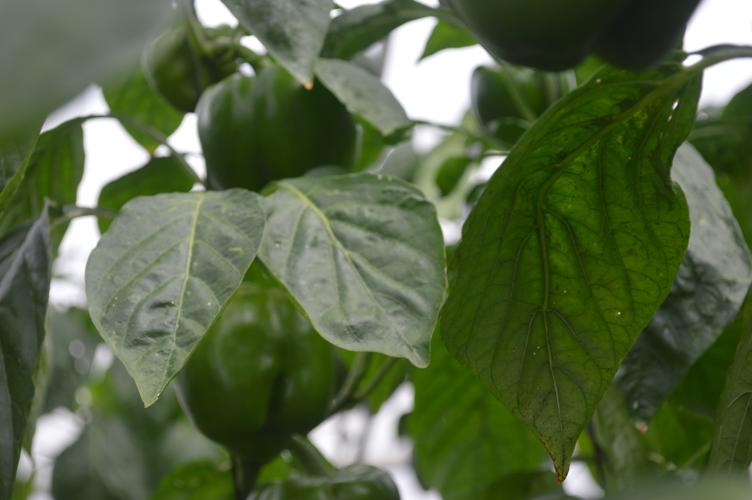BellPepper: (173, 280, 329, 445), (195, 66, 361, 189), (141, 31, 221, 118)
